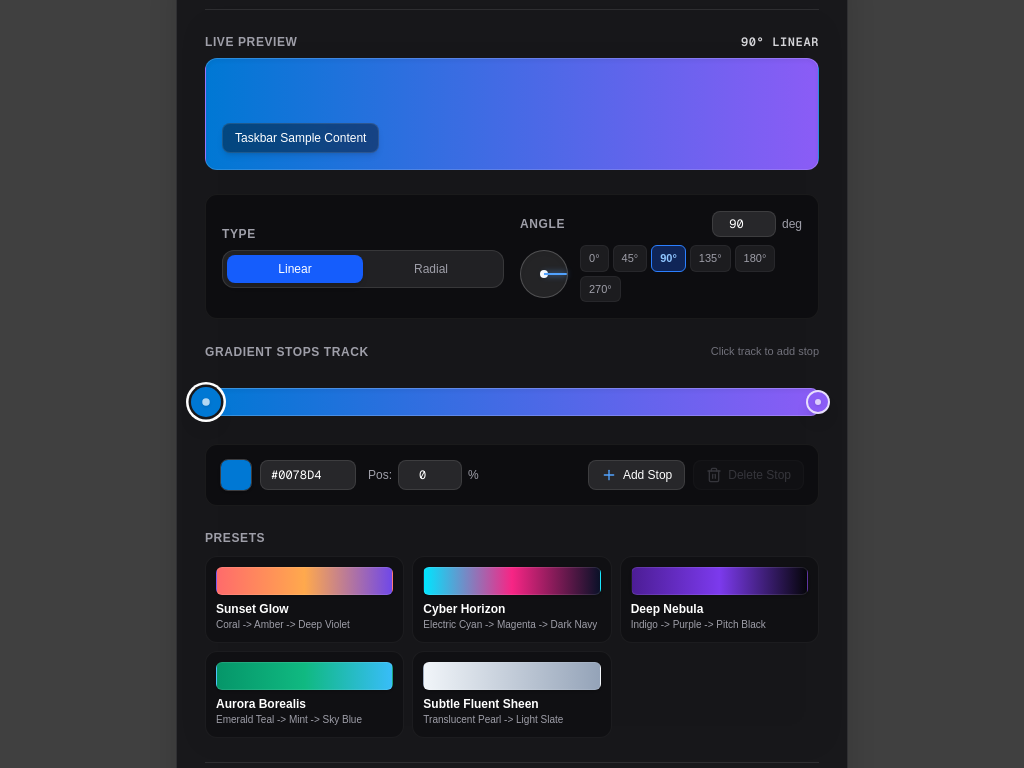
Test: GradientEditorModal › adds a new stop when clicking Add Stop
Expected: the number of sliders named "stop" is 2, left=191, top=387, right=221, bottom=417; left=806, top=390, right=830, bottom=414
Click the button "Add Stop". click: [637, 475]
box: left=588, top=460, right=685, bottom=490
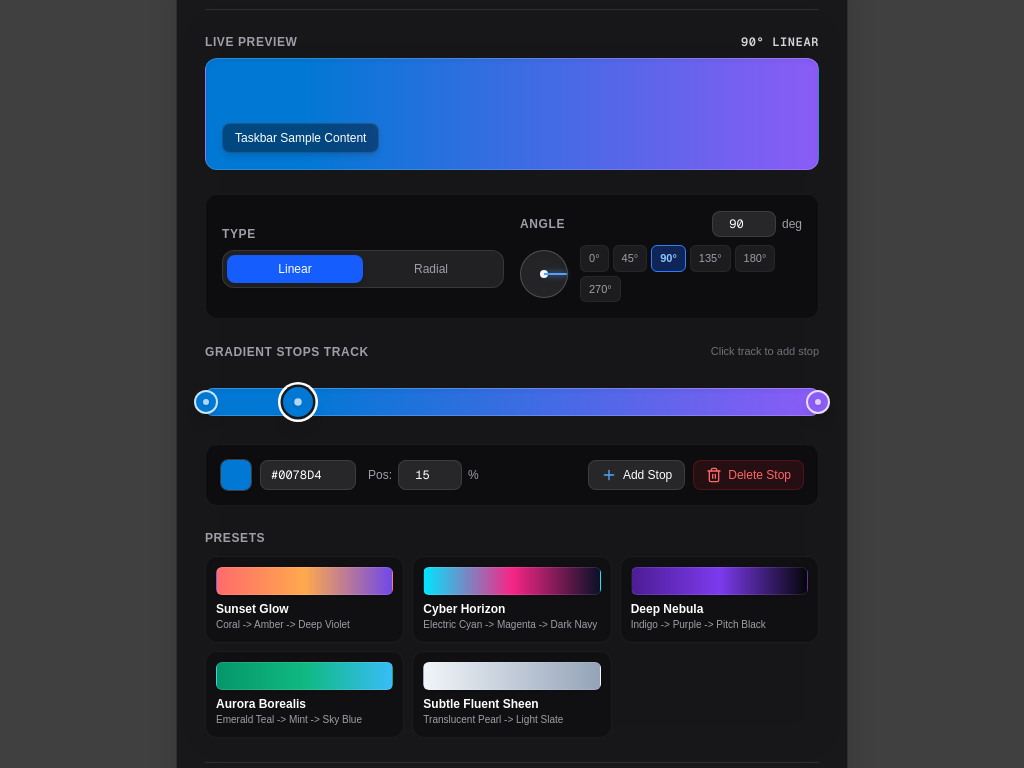
Result: the number of sliders named "stop" is 3 at left=194, top=390, right=218, bottom=414; left=806, top=390, right=830, bottom=414; left=283, top=387, right=313, bottom=417
